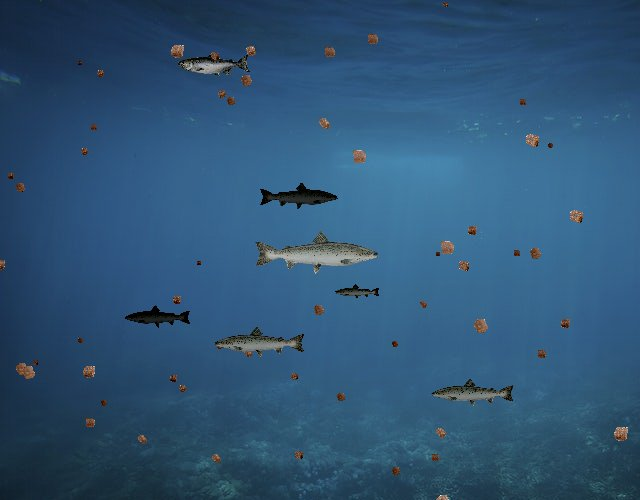Fish: (252, 229, 381, 275), (213, 326, 307, 360), (430, 377, 516, 408), (258, 182, 339, 211), (178, 52, 251, 78), (125, 304, 193, 329), (334, 283, 381, 300)
Pellet: (606, 418, 636, 448), (163, 38, 191, 66), (312, 112, 336, 136), (234, 68, 258, 92), (239, 40, 262, 63), (10, 177, 31, 198), (212, 85, 231, 104), (205, 47, 224, 66), (76, 143, 92, 159), (544, 140, 557, 153), (29, 357, 41, 369)
